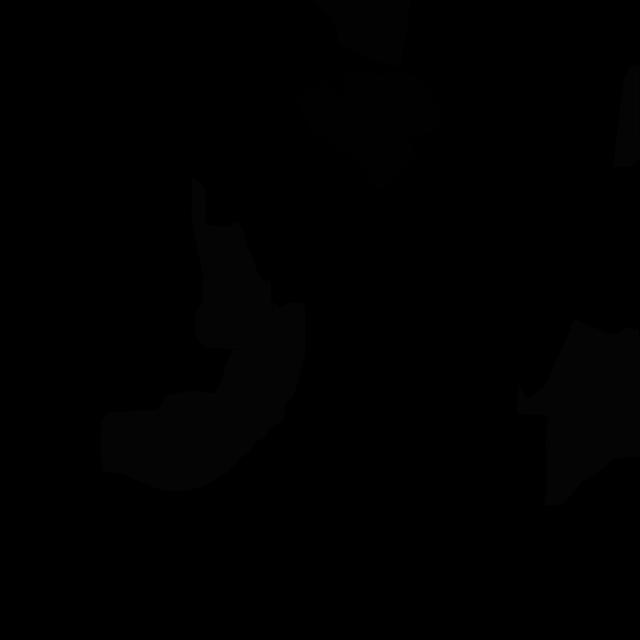cardboard: (313, 0, 411, 67)
rigid_plastic: (296, 70, 441, 191)
soft_plastic: (100, 301, 306, 491), (516, 318, 640, 506), (191, 178, 275, 349), (613, 64, 640, 167)
